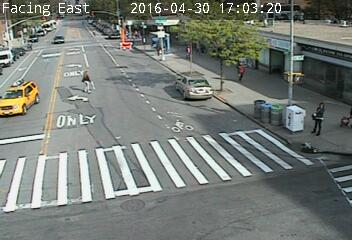neg: (257, 94, 284, 129), (183, 86, 208, 120), (238, 85, 260, 115), (161, 96, 180, 122), (275, 109, 294, 134), (104, 48, 122, 71), (125, 68, 142, 91), (218, 98, 233, 117), (133, 112, 147, 131), (92, 43, 103, 57), (36, 29, 46, 43), (54, 47, 64, 61), (53, 22, 63, 35), (65, 20, 75, 33), (70, 38, 79, 49), (76, 21, 82, 30)
pos: (305, 100, 334, 138), (75, 66, 96, 95), (235, 61, 249, 80), (181, 40, 194, 58), (152, 40, 162, 54), (133, 29, 141, 39), (124, 30, 132, 40), (91, 28, 98, 36)
